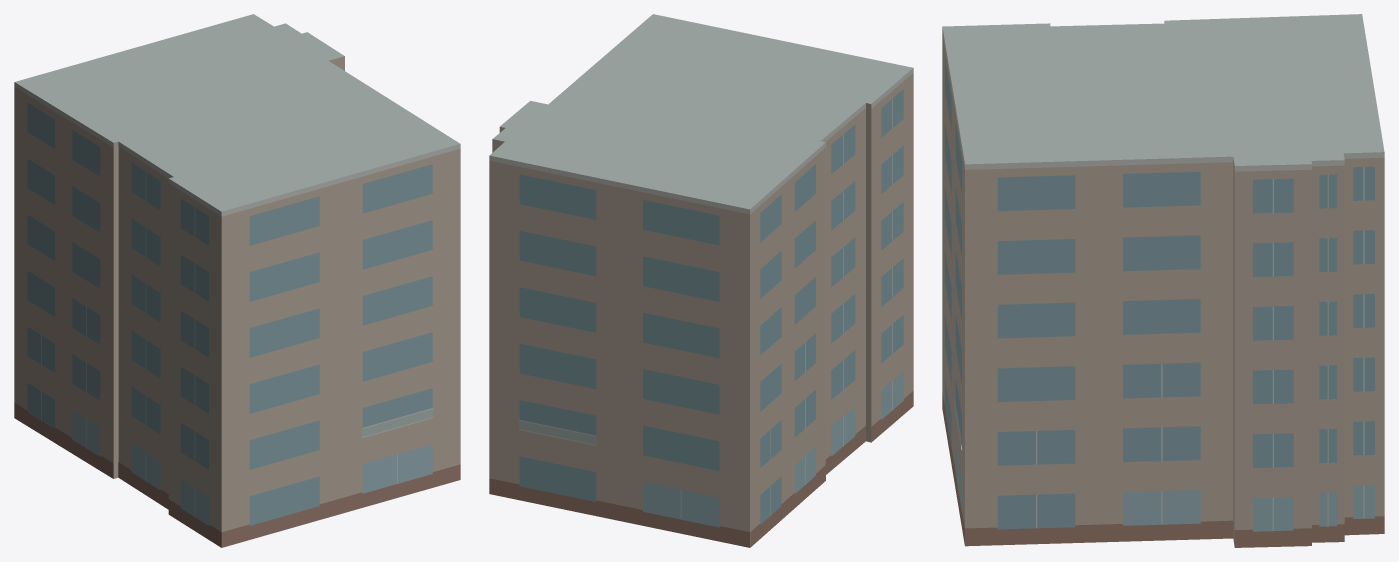
Rendered from survey-upis-32999787.glb.
3 views of the same model, side by side, from view 1: azimuth 30°, elevation 25°; view 2: azimuth 150°, elevation 25°; view 3: azimuth 270°, elevation 25° (orthographic). The views are drawn at different scales.
Parts seen in each view (by area): view 1: survey-upis-32999787.tmp; view 2: survey-upis-32999787.tmp; view 3: survey-upis-32999787.tmp.
Boxes of the visible parts, x1,y1,x2,y2 form: survey-upis-32999787.tmp: (14, 14, 460, 547); survey-upis-32999787.tmp: (489, 14, 913, 547); survey-upis-32999787.tmp: (942, 14, 1384, 547).
Size of the model in its own units: 14.28 by 16.7 by 17.54.
